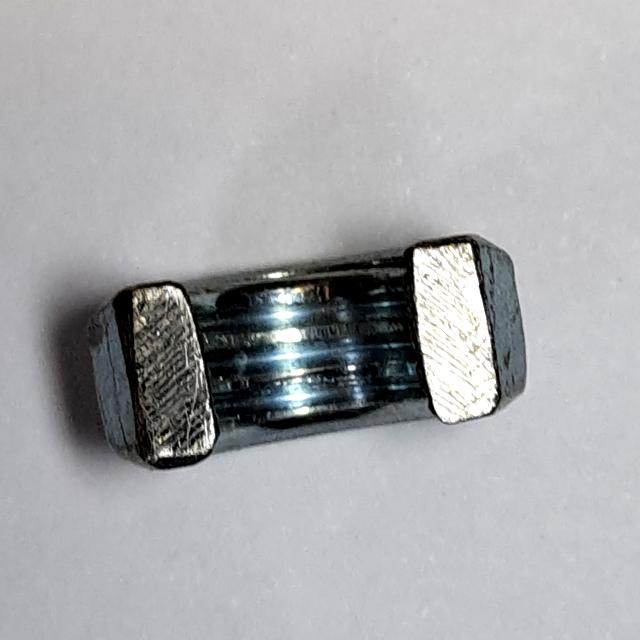Side-Fracture: (77, 213, 539, 486)
